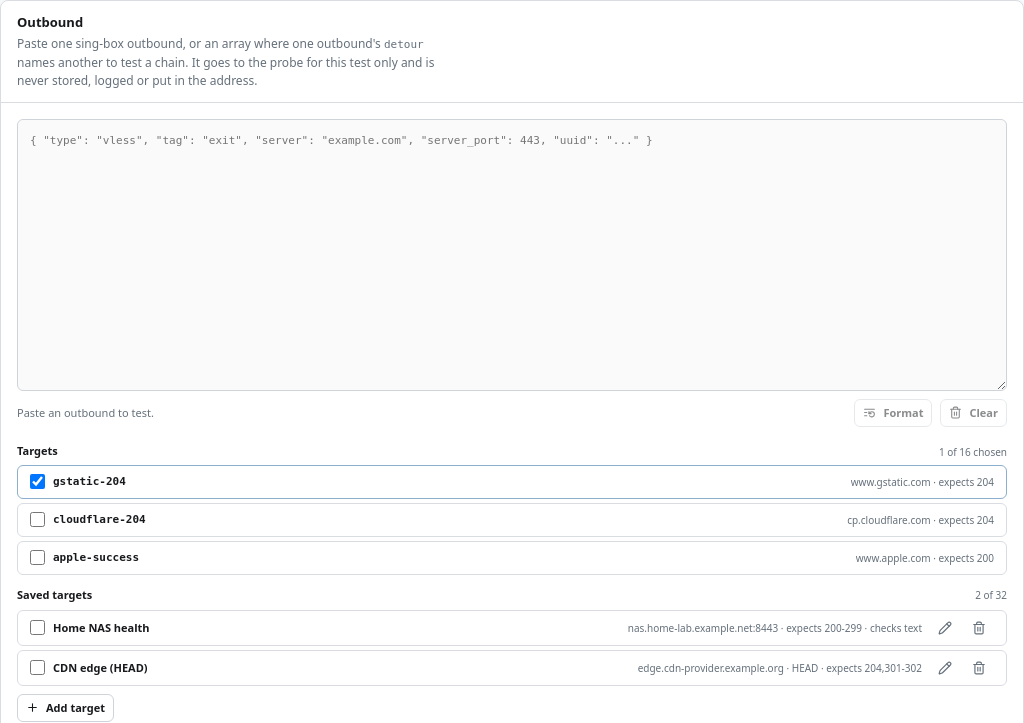
Test: saved targets › a delete that fails says why and leaves the focus on its Delete button
Click the 2nd button with test id "probe-target-delete": (979, 668) left=964, top=653, right=994, bottom=683
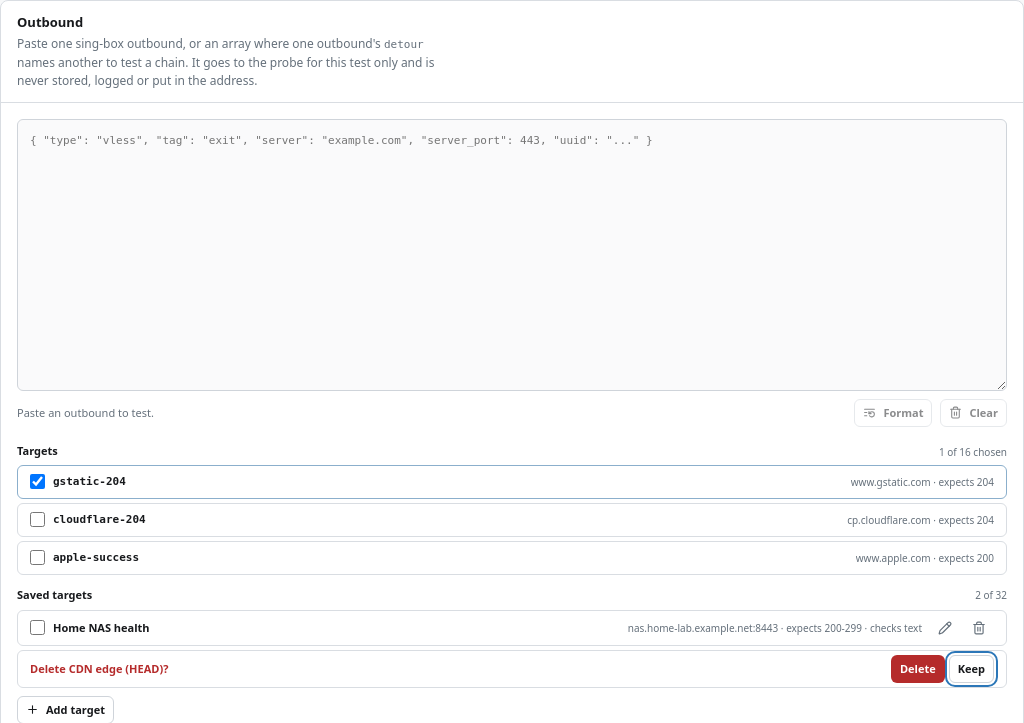
Click the button "Delete": (918, 669) left=891, top=655, right=945, bottom=683
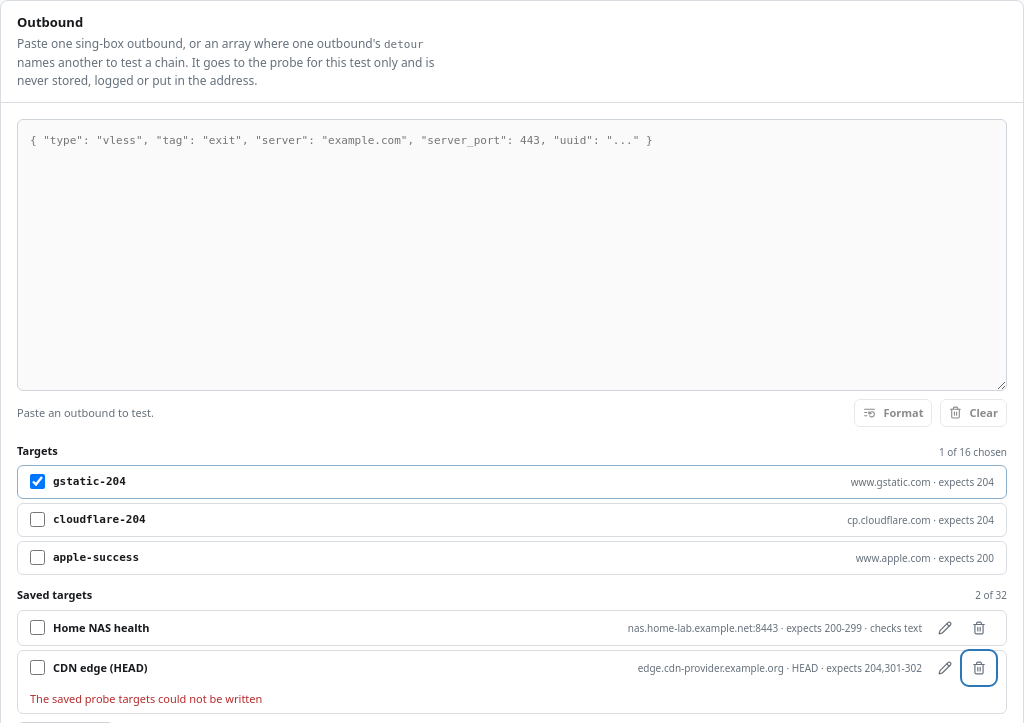
Expected: the message "The saved probe targets could not be written" is shown, left=30, top=691, right=262, bottom=706
